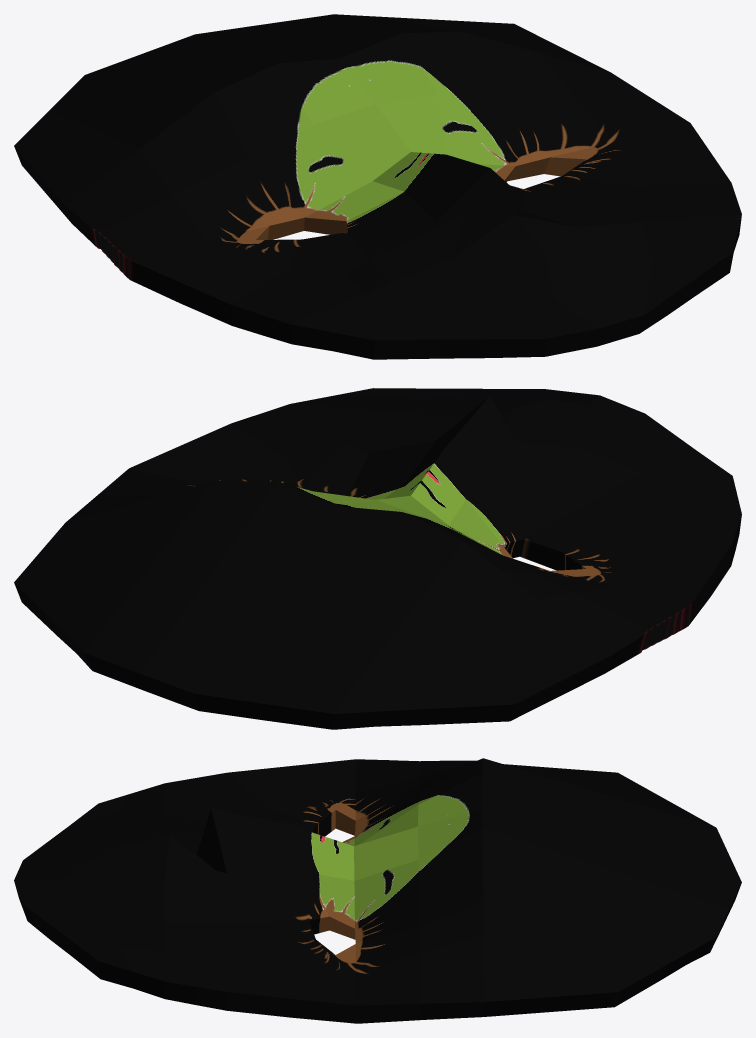
The model's file is shrinkmask.fbx.
3 renders of one model, top to bottom at view 1: azimuth 30°, elevation 25°; view 2: azimuth 150°, elevation 25°; view 3: azimuth 270°, elevation 25°, orthographic. The views are drawn at different scales.
Parts seen in each view (by area): view 1: Plane; view 2: Plane; view 3: Plane.
Part boxes in pixels (bbox=[...]): Plane: bbox=[14, 14, 741, 359]; Plane: bbox=[14, 388, 741, 729]; Plane: bbox=[14, 758, 741, 1023].
Bounding box in the file's own units: 224 × 42.98 × 280.
Materials: 1 (1 with a texture image).
